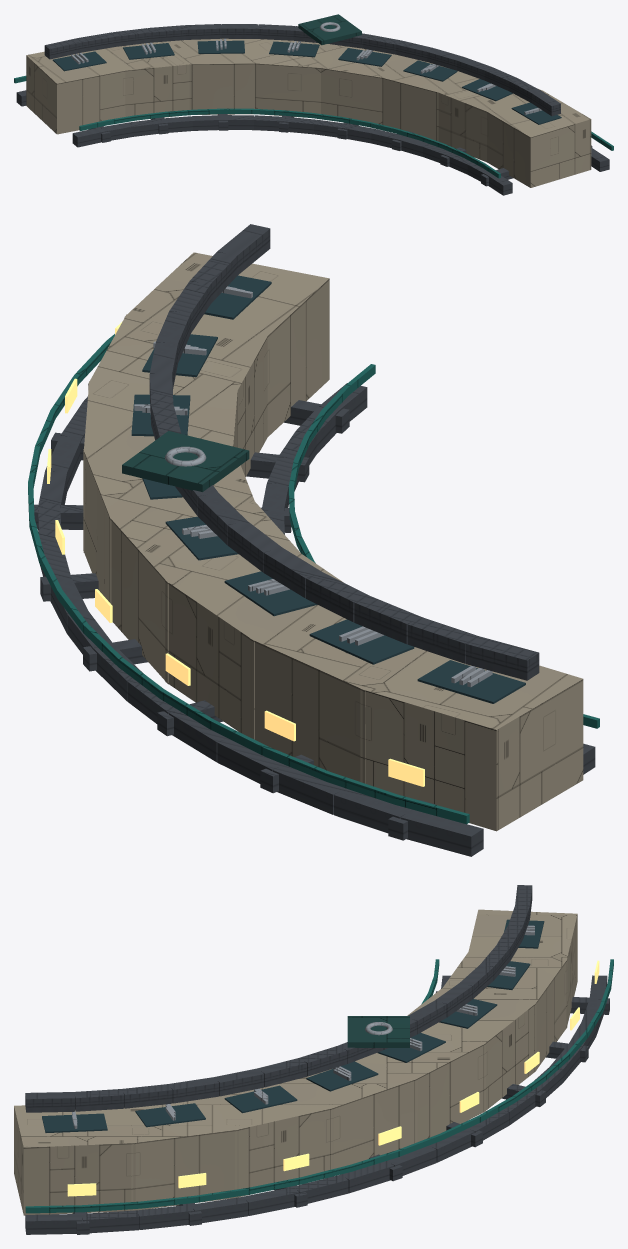
The model's file is large_habitation_ring_quadrant_lod2.glb.
3 views of the same model, one above another, from view 1: azimuth 30°, elevation 25°; view 2: azimuth 150°, elevation 25°; view 3: azimuth 270°, elevation 25° (orthographic). The views are drawn at different scales.
Parts seen in each view (by area): view 1: LOD2_Hull, LOD2_Mechanical, LOD2_CANOPY, LOD2_Livery, LOD2_Armor, LOD2_BrushedMetal; view 2: LOD2_Hull, LOD2_Mechanical, LOD2_CANOPY, LOD2_Livery, LOD2_Armor, LOD2_BrushedMetal, LOD2_Lights_Warm; view 3: LOD2_Hull, LOD2_Mechanical, LOD2_CANOPY, LOD2_Livery, LOD2_Lights_Warm, LOD2_Armor, LOD2_BrushedMetal.
Boxes of the visible parts, x1=… form: LOD2_Hull: x1=26, y1=38, x2=591, y2=187; LOD2_Mechanical: x1=16, y1=24, x2=609, y2=195; LOD2_CANOPY: x1=52, y1=40, x2=561, y2=124; LOD2_Livery: x1=14, y1=75, x2=613, y2=178; LOD2_Armor: x1=298, y1=14, x2=361, y2=45; LOD2_BrushedMetal: x1=71, y1=22, x2=541, y2=114; LOD2_Hull: x1=83, y1=252, x2=583, y2=831; LOD2_Mechanical: x1=34, y1=224, x2=595, y2=856; LOD2_CANOPY: x1=131, y1=275, x2=525, y2=703; LOD2_Livery: x1=28, y1=334, x2=599, y2=824; LOD2_Armor: x1=122, y1=431, x2=249, y2=491; LOD2_BrushedMetal: x1=134, y1=286, x2=492, y2=687; LOD2_Lights_Warm: x1=47, y1=321, x2=424, y2=786; LOD2_Hull: x1=14, y1=909, x2=577, y2=1215; LOD2_Mechanical: x1=25, y1=885, x2=609, y2=1234; LOD2_CANOPY: x1=42, y1=919, x2=544, y2=1132; LOD2_Livery: x1=25, y1=959, x2=613, y2=1213; LOD2_Lights_Warm: x1=67, y1=960, x2=599, y2=1196; LOD2_Armor: x1=347, y1=1016, x2=409, y2=1047; LOD2_BrushedMetal: x1=72, y1=925, x2=534, y2=1128.
Size of the model in its own units: 48.09 by 9.84 by 48.09.
7 materials, 5 textured.
